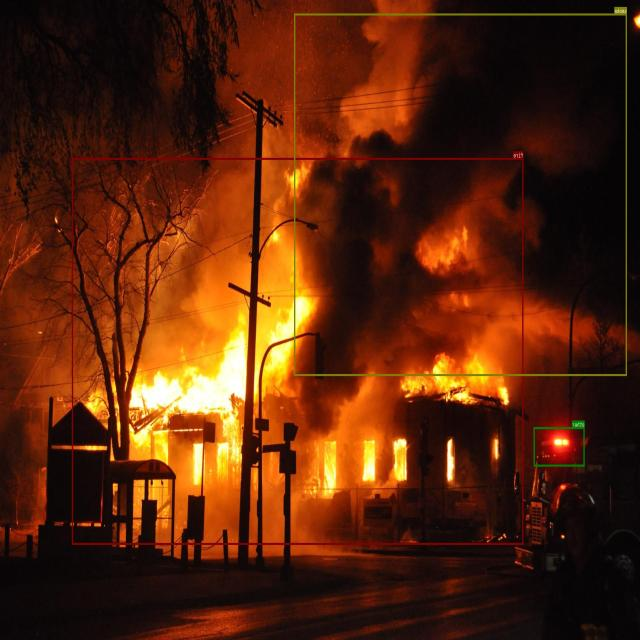fire: (72, 158, 524, 544)
other: (534, 426, 585, 466)
smoke: (295, 13, 627, 375)
